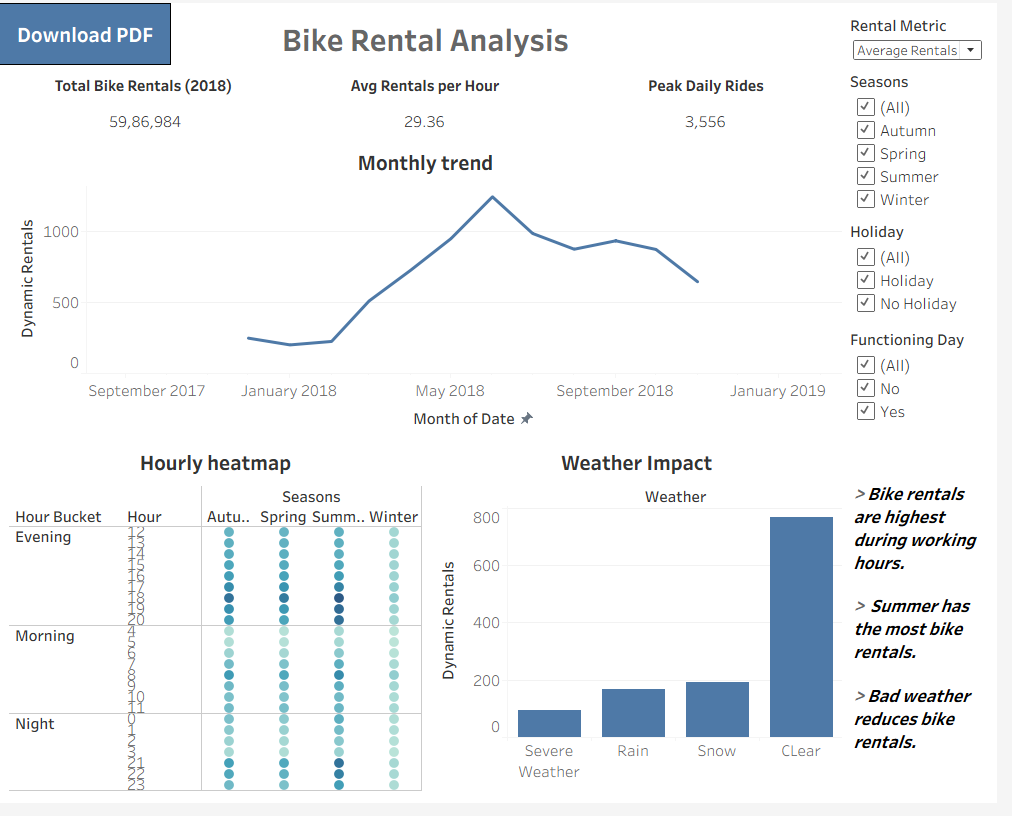

Layout of this report page (visuals, bound fields, positions):
{"tool":"tableau","page":{"name":"Rental Analysis","canvas":[1000,800],"ordinal":0},"visuals":[{"type":"dashboard-object","box":[2,0,172,62]},{"type":"text","box":[8,8,841,56]},{"type":"parameter","param":"[Parameters].[Parameter 1]","box":[849,8,143,56]},{"type":"worksheet","title":"Total Bike Rentals (2018)","mark":"Automatic","box":[8,64,280.3,73]},{"type":"worksheet","title":"Avg Rentals per Hour","mark":"Automatic","box":[288.3,64,280.3,73]},{"type":"worksheet","title":"Peak Daily Rides","mark":"Automatic","box":[568.7,64,280.3,73]},{"type":"filter","title":"Monthly trend","param":"[federated.1jnsxwy1vx2ae11gqymqt026upds].[none:Seasons:nk]","box":[849,64,143,150]},{"type":"worksheet","title":"Monthly trend","mark":"Automatic","rows":["Calculation_15757671226322947"],"cols":["Date"],"box":[8,137,841,300]},{"type":"filter","title":"Monthly trend","param":"[federated.1jnsxwy1vx2ae11gqymqt026upds].[none:Holiday:nk]","box":[849,214,143,108]},{"type":"filter","title":"Monthly trend","param":"[federated.1jnsxwy1vx2ae11gqymqt026upds].[none:Functioning Day:nk]","box":[849,322,143,115]},{"type":"worksheet","title":"Hourly heatmap","mark":"Circle","rows":["Calculation_14538862490066947","Hour"],"cols":["Seasons"],"box":[8,437,420.5,355]},{"type":"worksheet","title":"Weather Impact","mark":"Automatic","rows":["Calculation_15757671226322947"],"cols":["Calculation_15757671202643968"],"box":[428.5,437,420.5,355]},{"type":"text","box":[849,437,143,355]}]}

Visuals, with their boxes in screenshot pixels (x1, y1, x2, y2), scaled from the page's 1000x800 canvas onto the 1012x816 screenshot:
dashboard-object: <box>2,0,176,63</box>
text: <box>8,8,859,65</box>
parameter: <box>859,8,1004,65</box>
"Total Bike Rentals (2018)" worksheet: <box>8,65,292,140</box>
"Avg Rentals per Hour" worksheet: <box>292,65,575,140</box>
"Peak Daily Rides" worksheet: <box>576,65,859,140</box>
"Monthly trend" filter: <box>859,65,1004,218</box>
"Monthly trend" worksheet: <box>8,140,859,446</box>
"Monthly trend" filter: <box>859,218,1004,328</box>
"Monthly trend" filter: <box>859,328,1004,446</box>
"Hourly heatmap" worksheet (Circle marks): <box>8,446,434,808</box>
"Weather Impact" worksheet: <box>434,446,859,808</box>
text: <box>859,446,1004,808</box>
